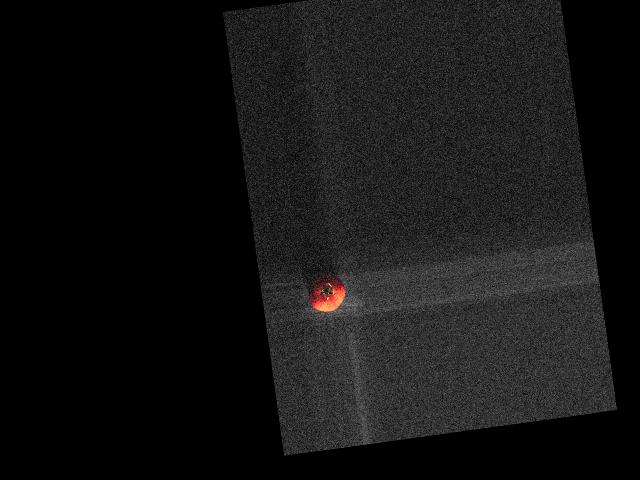tomato: (306, 271, 347, 313)
